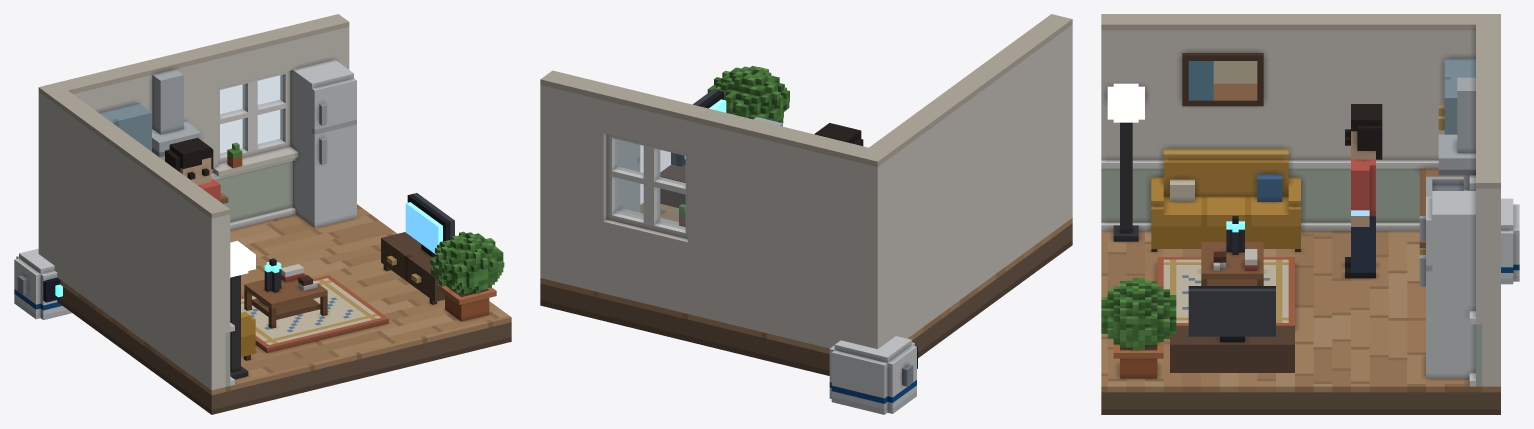
Rendered from smart-home.glb.
3 renders of one model, left to right at view 1: azimuth 30°, elevation 25°; view 2: azimuth 150°, elevation 25°; view 3: azimuth 270°, elevation 25°, orthographic. The views are drawn at different scales.
Visible parts, largest first — view 1: room, glass, agent, resident; view 2: room, agent, glass, resident; view 3: room, resident, agent.
Boxes of the visible parts, <box> form: room: <box>38,14,511,414</box>; glass: <box>220,75,282,155</box>; agent: <box>14,248,71,319</box>; resident: <box>165,137,220,201</box>; room: <box>540,14,1072,375</box>; agent: <box>829,336,917,414</box>; glass: <box>615,139,685,229</box>; resident: <box>814,123,863,145</box>; room: <box>1101,14,1500,414</box>; resident: <box>1345,104,1382,278</box>; agent: <box>1501,198,1519,284</box>.
Size of the model in its own units: 17.25 by 11 by 16.75.
